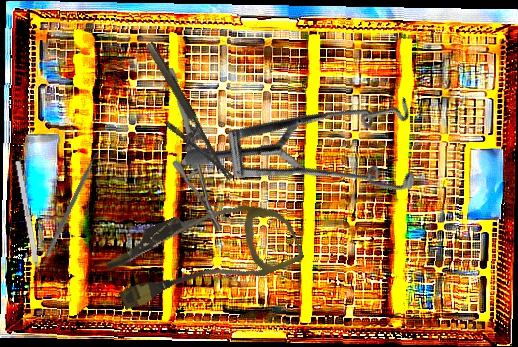Cannula: (99, 176, 306, 331)
Hook Surgical: (14, 160, 44, 288)
Needle Holder: (126, 40, 234, 194), (160, 67, 231, 232)
Spatula Surgical: (44, 148, 104, 260)
Speculum: (179, 17, 449, 272)
